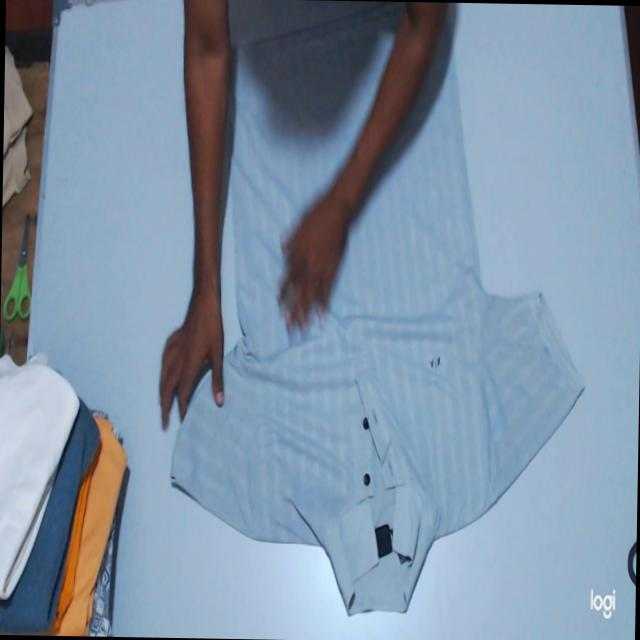new-garment: (171, 5, 582, 614)
